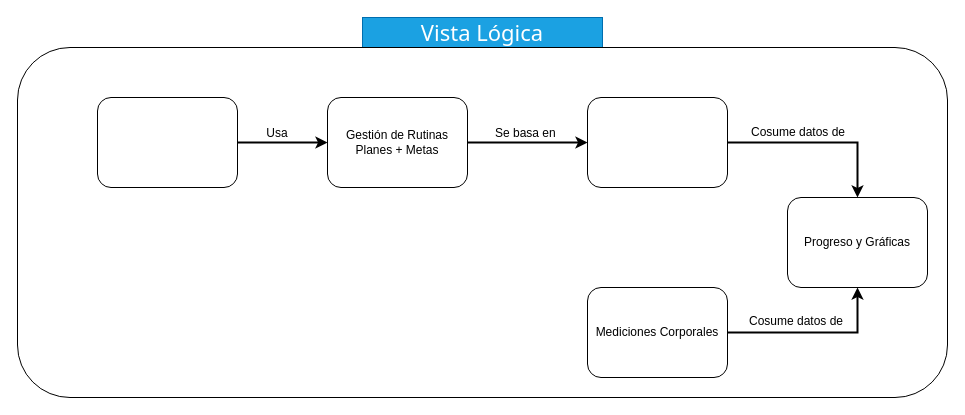
Some shapes in this 965 by 415 pixel diagram are drawn without their labels. The shapes that lost their labels are listed below. From the top down, each one's centre as x and y in pixels, then its label:
At (x=167, y=142): "Gestión de Ejercicios Catalogo".
At (x=657, y=142): "Registro de sesiones y Series".
